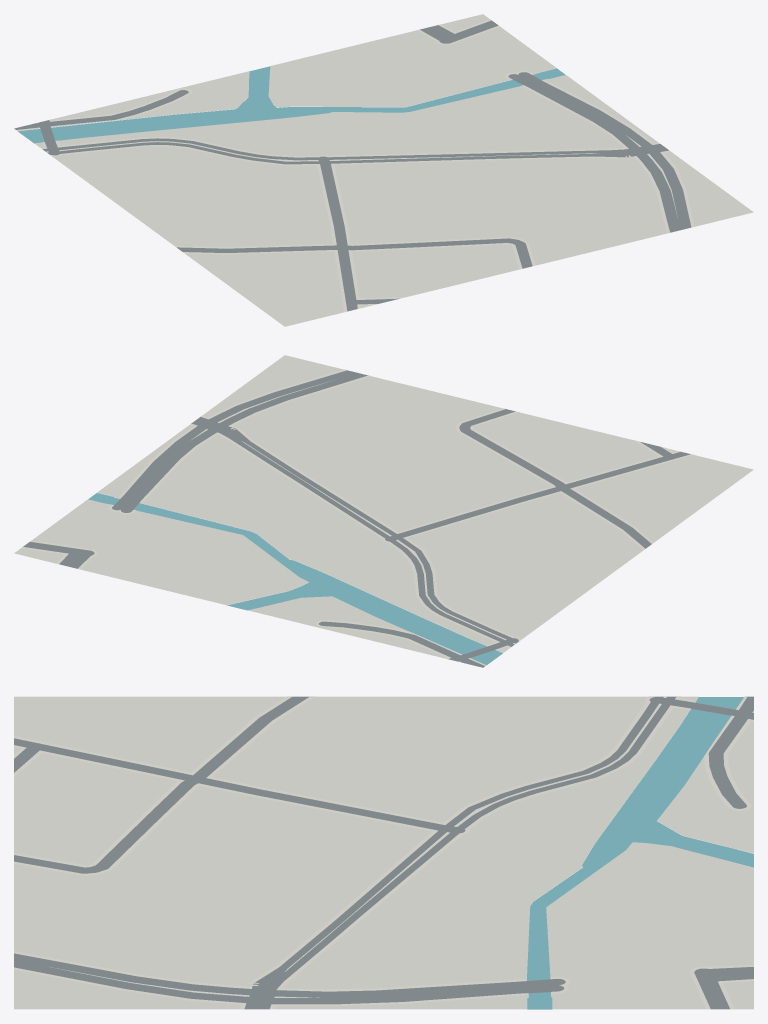
3 views of the same model, one above another, from view 1: azimuth 30°, elevation 25°; view 2: azimuth 150°, elevation 25°; view 3: azimuth 270°, elevation 25° (orthographic). The views are drawn at different scales.
Visible parts, largest first — view 1: city; view 2: city; view 3: city.
Boxes of the visible parts, x1,y1,x2,y2 form: city: (14, 14, 753, 326); city: (14, 355, 753, 667); city: (14, 696, 753, 1009).
Bounding box in the file's own units: 500 × 0.4 × 500.
